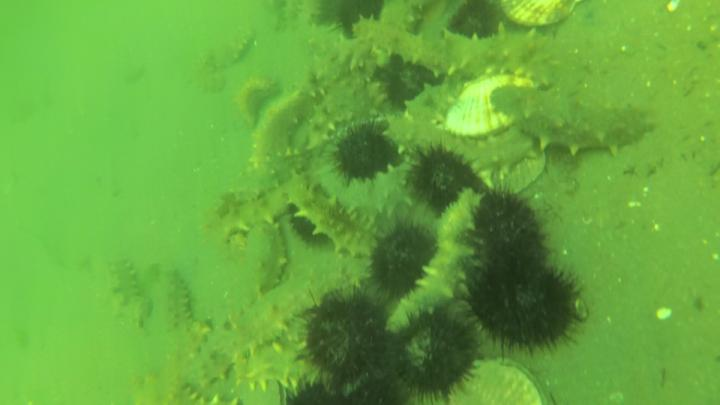echinus: (472, 260, 578, 355), (303, 287, 390, 383), (391, 309, 477, 395), (472, 190, 546, 268), (369, 221, 436, 297), (407, 149, 480, 213), (333, 125, 400, 181), (287, 204, 333, 251), (380, 56, 427, 102), (343, 375, 411, 405), (452, 1, 497, 41), (284, 380, 352, 405)
holothurian: (195, 273, 335, 393), (352, 13, 559, 91), (385, 189, 483, 335), (491, 83, 657, 161), (382, 110, 539, 179), (287, 182, 382, 262), (246, 86, 326, 175), (315, 157, 419, 220), (211, 176, 304, 244), (226, 224, 288, 322), (305, 39, 374, 126), (232, 341, 318, 394), (132, 373, 246, 405), (376, 1, 429, 67), (105, 256, 152, 328), (293, 1, 348, 58), (231, 75, 282, 130), (160, 265, 195, 336), (213, 21, 259, 71), (336, 1, 385, 29)
scallop: (444, 74, 539, 138), (450, 356, 551, 405), (500, 1, 582, 30), (507, 152, 549, 195)
